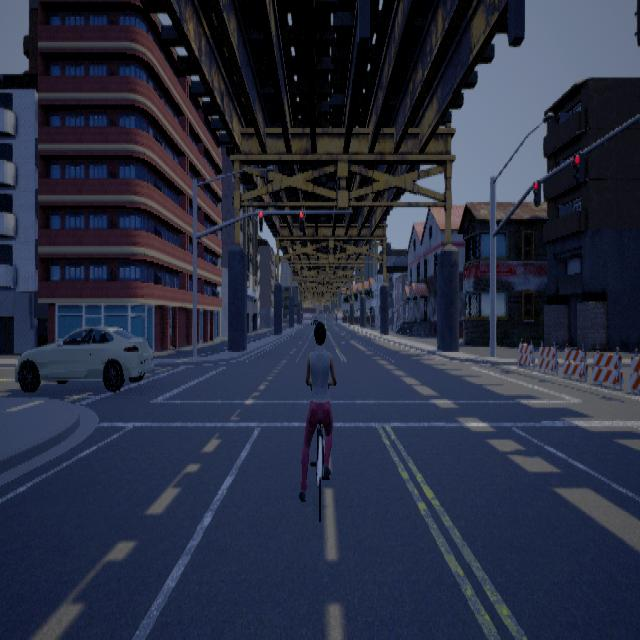bike: (296, 318, 345, 520)
red_light: (574, 152, 585, 184), (534, 178, 542, 206), (260, 210, 264, 230), (300, 210, 304, 230)
vehicle: (16, 323, 155, 391)
